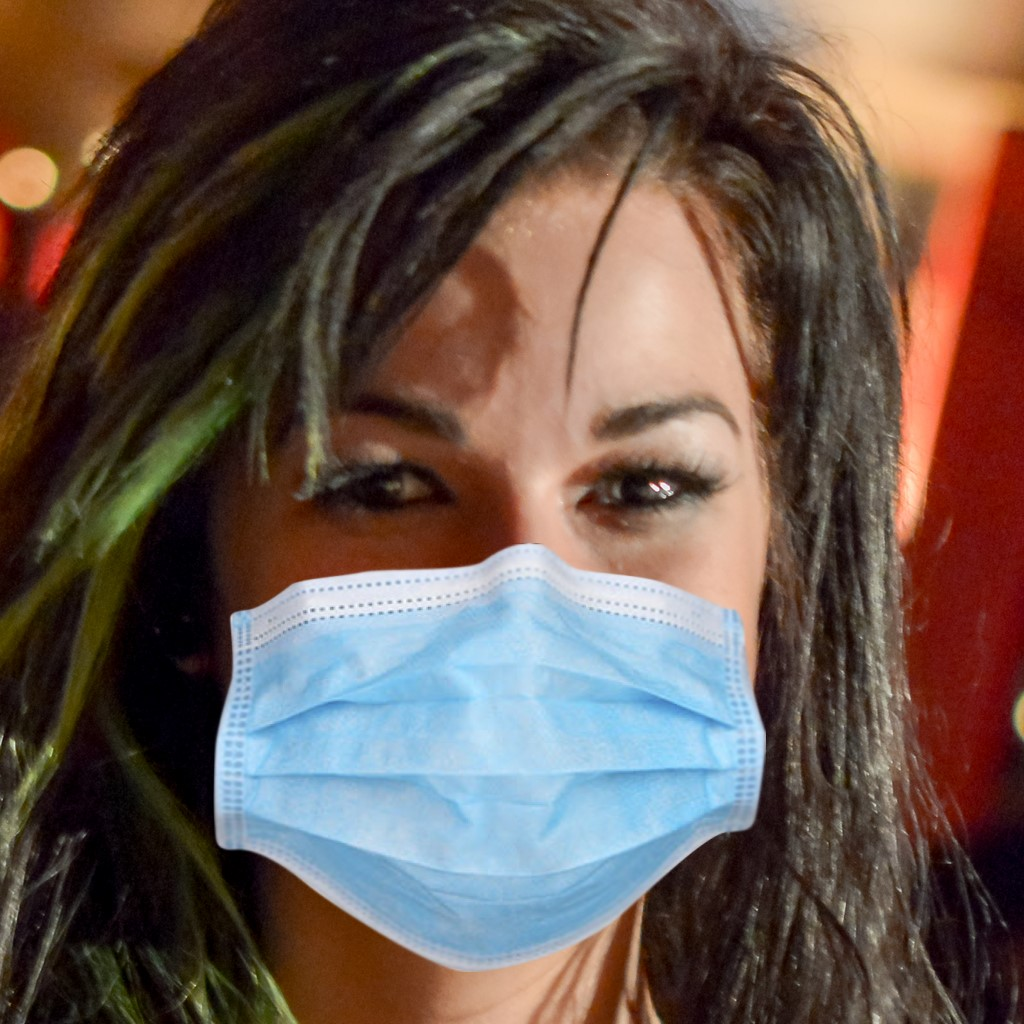con_mascara: (163, 45, 792, 958)
